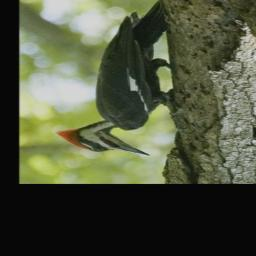Woodpecker: (55, 0, 176, 155)
